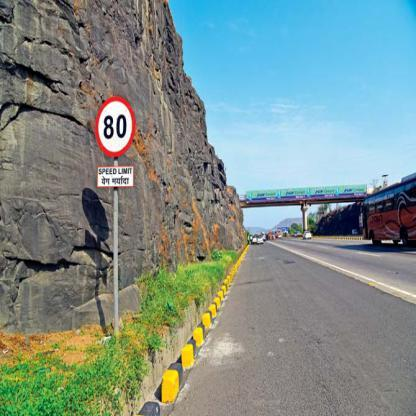Speed Limit 80: (96, 98, 135, 155)
